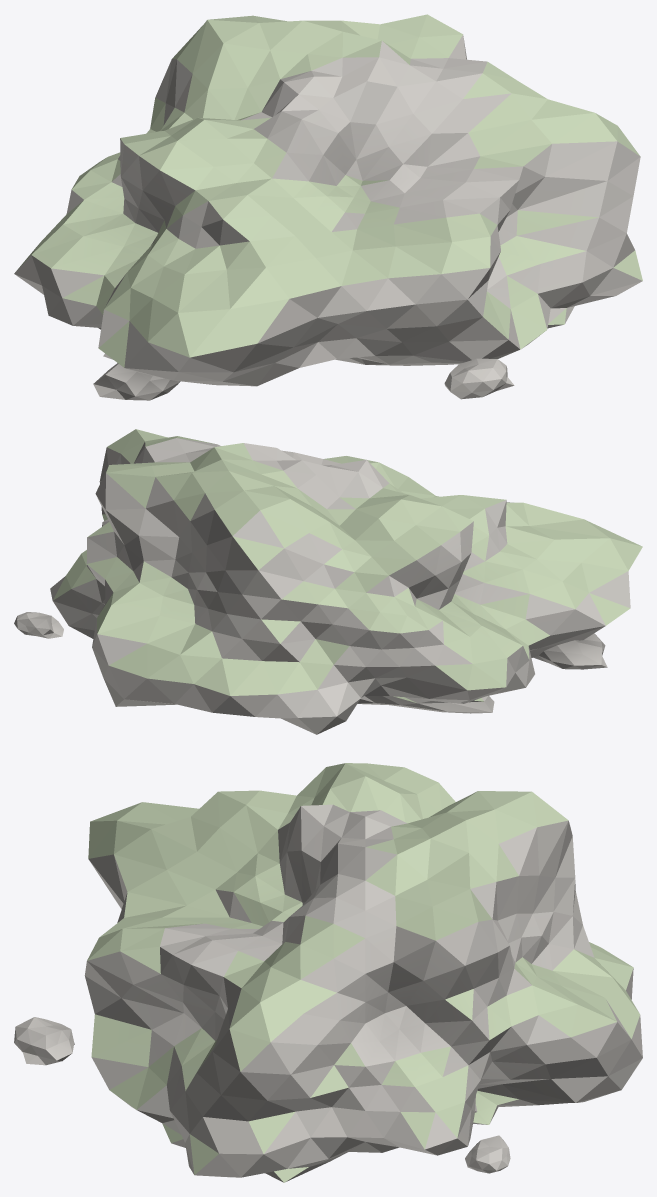
Rendered from boulder_a.glb.
3 renders of one model, top to bottom at view 1: azimuth 30°, elevation 25°; view 2: azimuth 150°, elevation 25°; view 3: azimuth 270°, elevation 25°, orthographic. The views are drawn at different scales.
Parts seen in each view (by area): view 1: boulder; view 2: boulder; view 3: boulder.
Part boxes in pixels (bbox=[...]): boulder: bbox=[14, 14, 642, 400]; boulder: bbox=[14, 429, 642, 734]; boulder: bbox=[14, 763, 642, 1182].
Bounding box in the file's own units: 1.88 × 0.8588 × 1.73.
